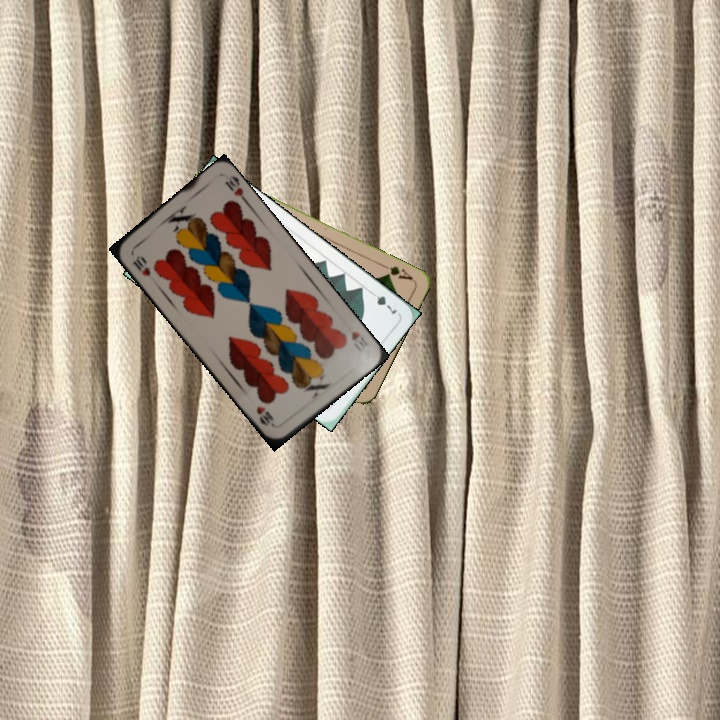G7: (366, 287, 400, 317)
GA: (378, 260, 415, 283)
H10: (128, 251, 153, 279), (347, 327, 370, 350)
